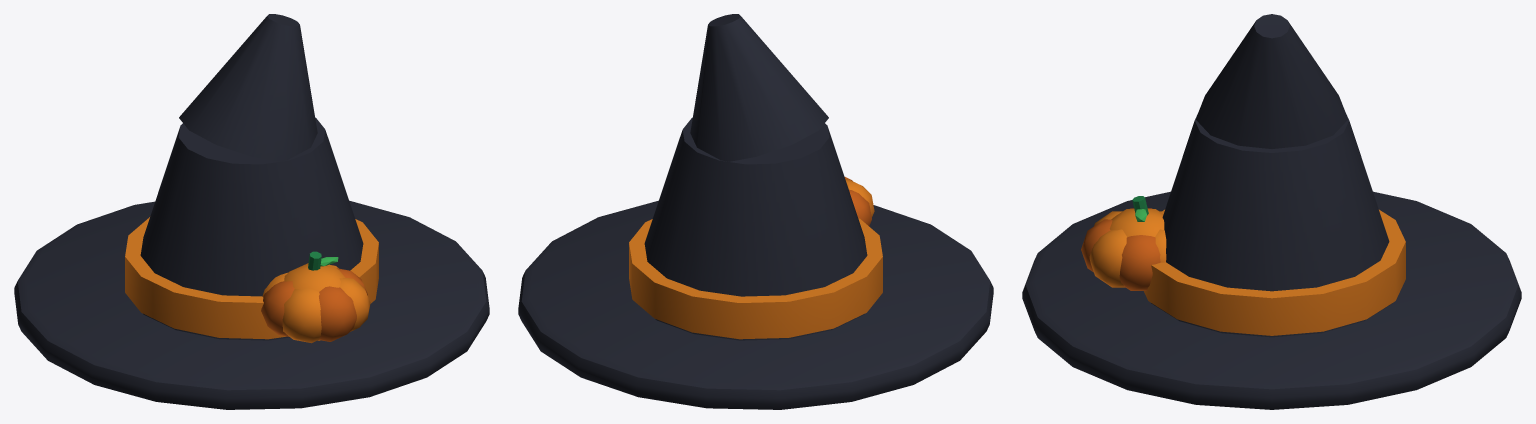
Rendered from lo_pumpkin_hat.glb.
3 views of the same model, side by side, from view 1: azimuth 30°, elevation 25°; view 2: azimuth 150°, elevation 25°; view 3: azimuth 270°, elevation 25° (orthographic). The views are drawn at different scales.
Parts seen in each view (by area): view 1: body; view 2: body; view 3: body.
Boxes of the visible parts, x1,y1,x2,y2 form: body: (14, 14, 489, 409); body: (518, 14, 993, 409); body: (1022, 14, 1521, 409).
Bounding box in the file's own units: 0.84 × 0.5639 × 0.84.
